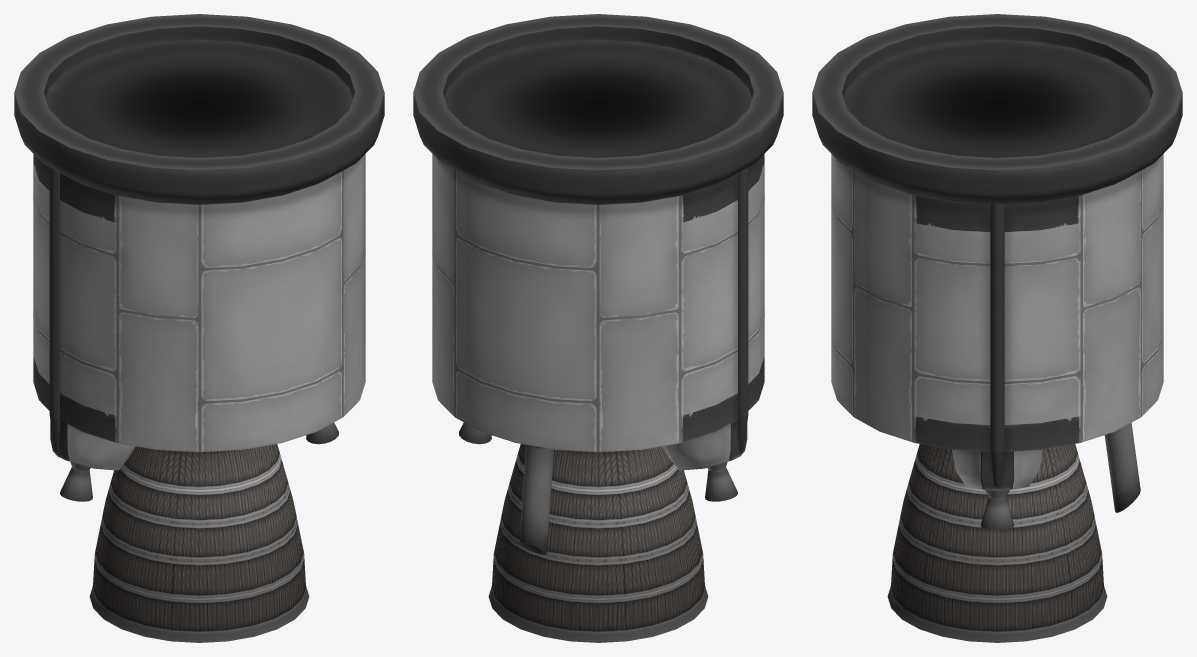
Rendered from bluedog_thorEngine.dae.
3 views of the same model, side by side, from view 1: azimuth 30°, elevation 25°; view 2: azimuth 150°, elevation 25°; view 3: azimuth 270°, elevation 25° (orthographic).
Visible parts, largest first — view 1: pCylinder39, EngineBell, vernierTransform; view 2: pCylinder39, EngineBell, vernierTransform; view 3: pCylinder39, EngineBell, vernierTransform_ncl1_1.
Boxes of the visible parts, x1,y1,x2,y2 form: pCylinder39: (14, 14, 384, 470); EngineBell: (89, 444, 309, 642); vernierTransform: (60, 462, 92, 501); pCylinder39: (413, 14, 783, 554); EngineBell: (488, 444, 708, 642); vernierTransform: (705, 462, 737, 501); pCylinder39: (812, 14, 1182, 512); EngineBell: (887, 444, 1107, 642); vernierTransform_ncl1_1: (980, 490, 1014, 529).
Bounding box in the file's own units: 1.5 × 2.26 × 1.5.
